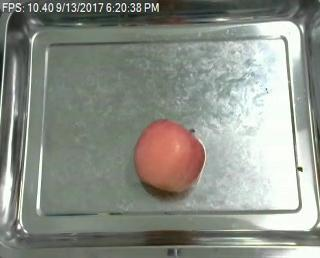apple: (133, 118, 204, 195)
